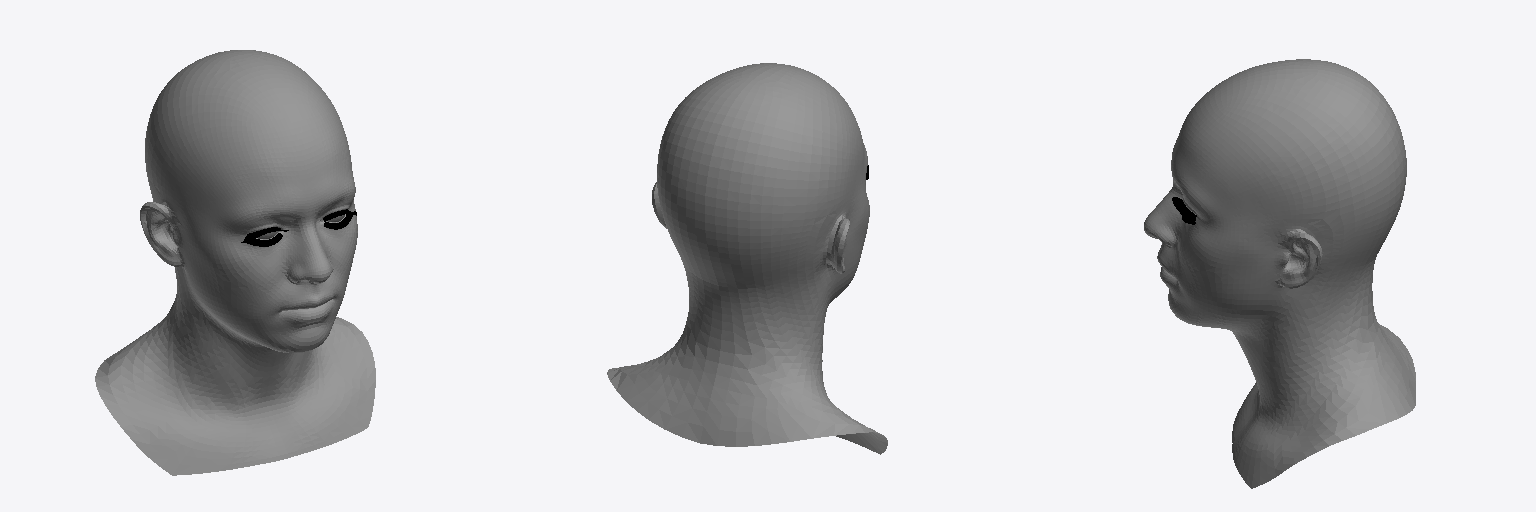
File: identity012.obj
3 renders of one model, left to right at view 1: azimuth 30°, elevation 25°; view 2: azimuth 150°, elevation 25°; view 3: azimuth 270°, elevation 25°, orthographic.
Size of the model in its own units: 24.86 by 33.85 by 22.35.